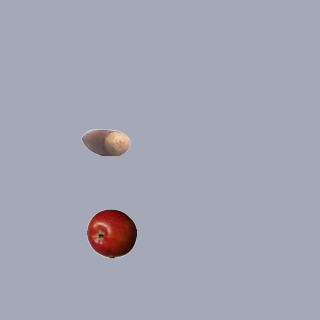Apple Braeburn: (86, 208, 136, 258)
Hazelnut: (80, 117, 130, 167)
